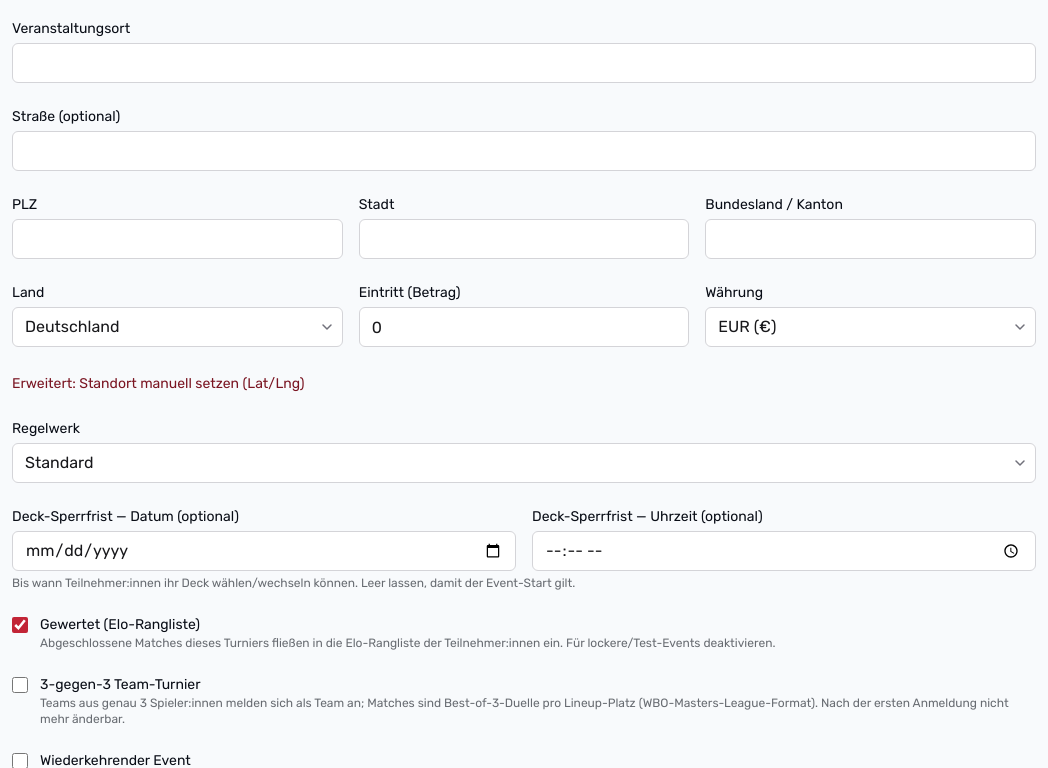
TournamentForm — background geocoding UX (RC11 #100) › keeps the Lat/Lng inputs hidden behind the advanced disclosure by default
(page scrolled)
Check: the field labelled "Breitengrad (Lat)" is not shown
Check: the field labelled "Längengrad (Lng)" is not shown
Click the button "Erweitert: Standort manuell setzen (Lat/Lng)" at (158,384), box 12,374 -> 304,394
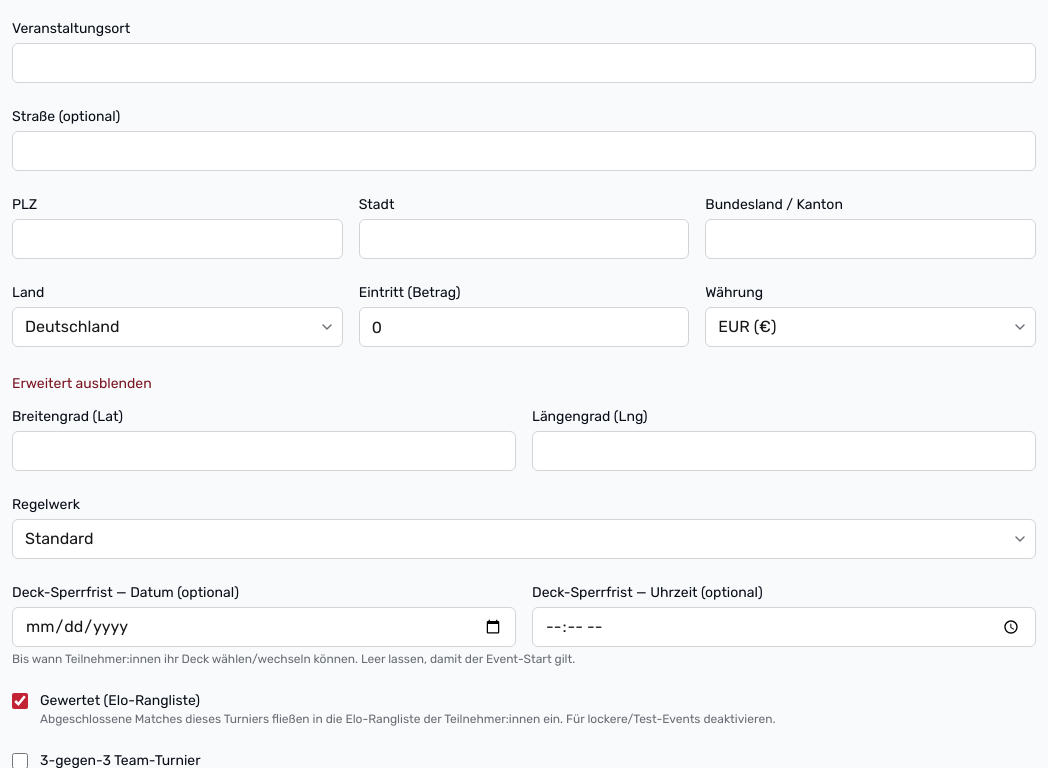
Check: the number field labelled "Breitengrad (Lat)" is shown, box 12,431 -> 516,471
Check: the number field labelled "Längengrad (Lng)" is shown, box 532,431 -> 1036,471
